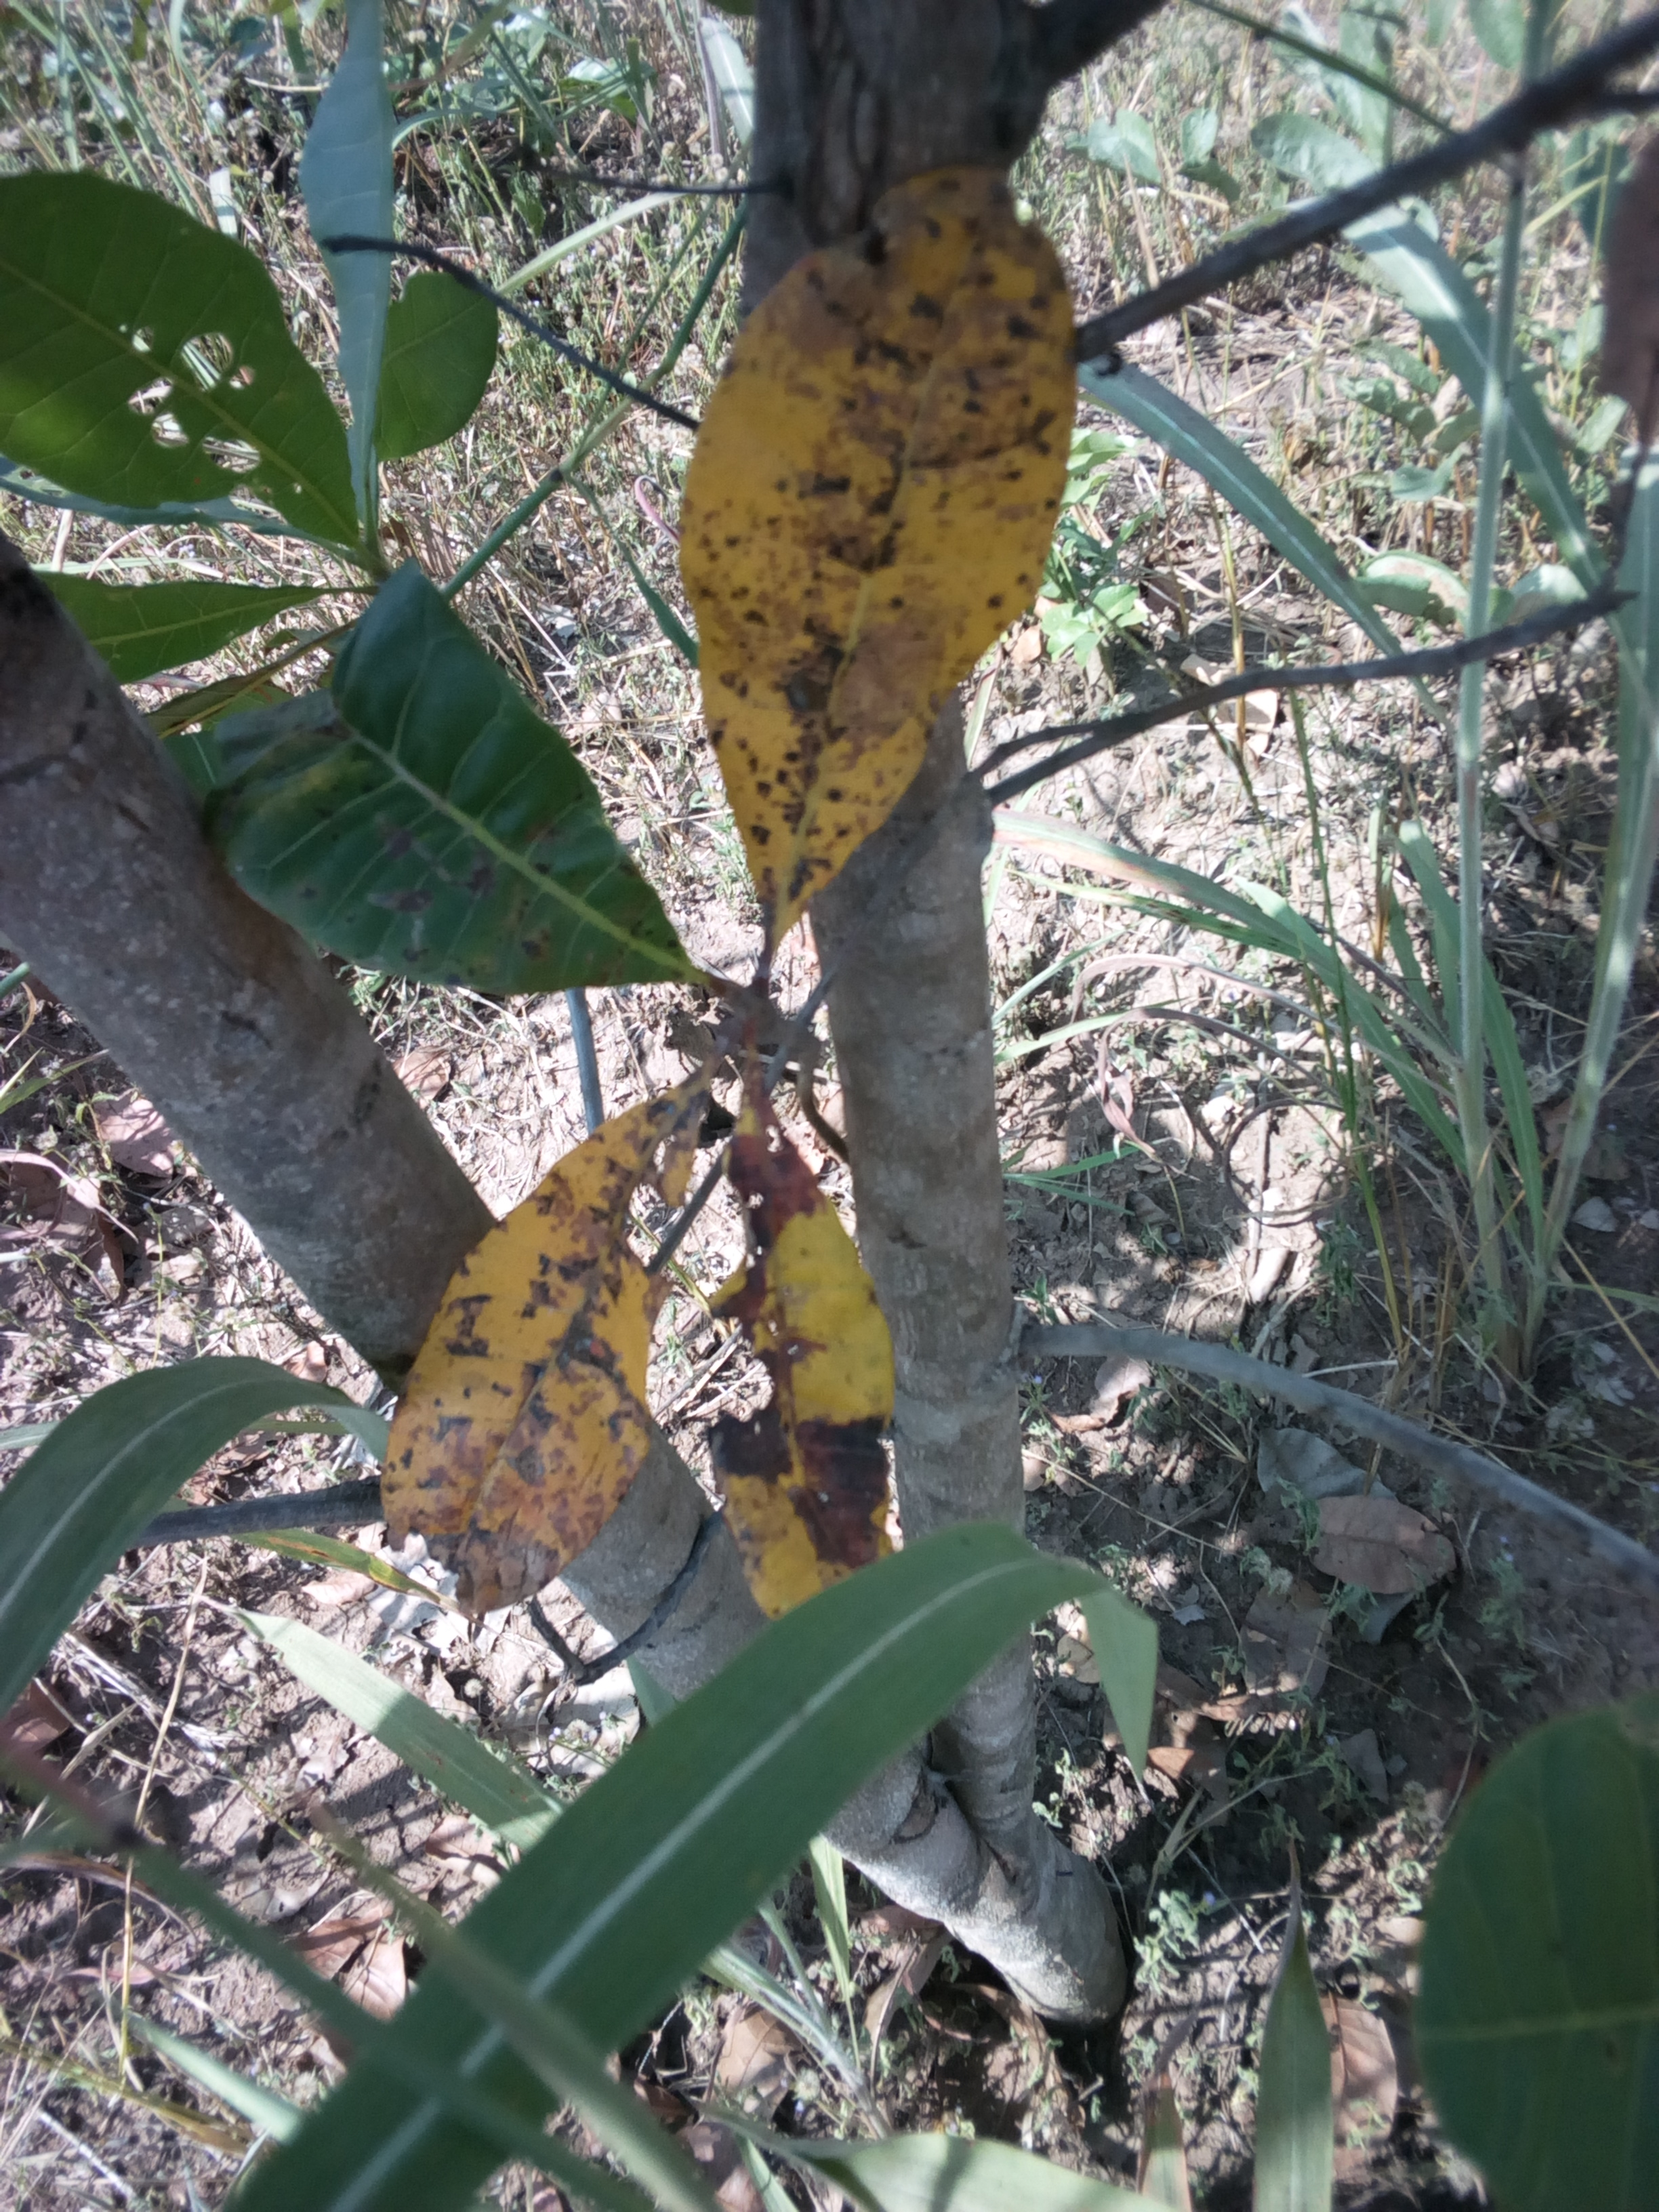Anthracnose: (697, 153, 1101, 913), (188, 550, 690, 1001), (382, 1069, 711, 1629)
